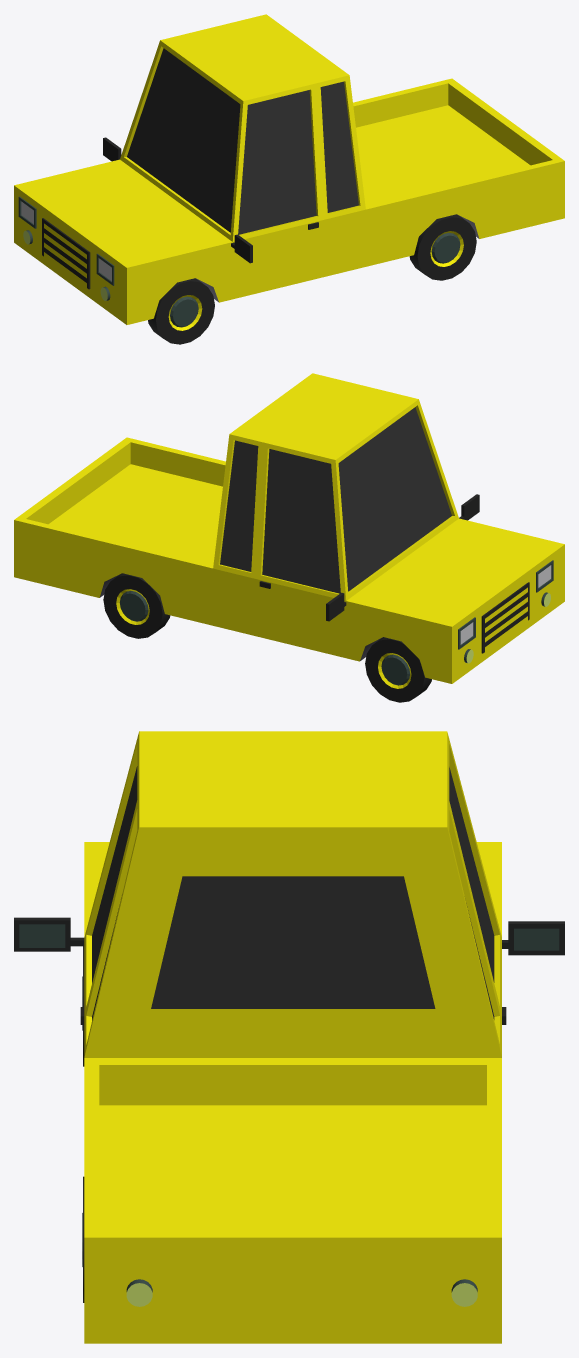
Rendered from pick up1.FBX.
3 views of the same model, one above another, from view 1: azimuth 30°, elevation 25°; view 2: azimuth 150°, elevation 25°; view 3: azimuth 270°, elevation 25° (orthographic). The views are drawn at different scales.
Parts seen in each view (by area): view 1: pick up1; view 2: pick up1; view 3: pick up1.
Part boxes in pixels (<box>): pick up1: <box>14,14,564,344</box>; pick up1: <box>14,373,564,702</box>; pick up1: <box>14,731,564,1343</box>.
Size of the model in its own units: 11.38 by 5.22 by 6.6.
